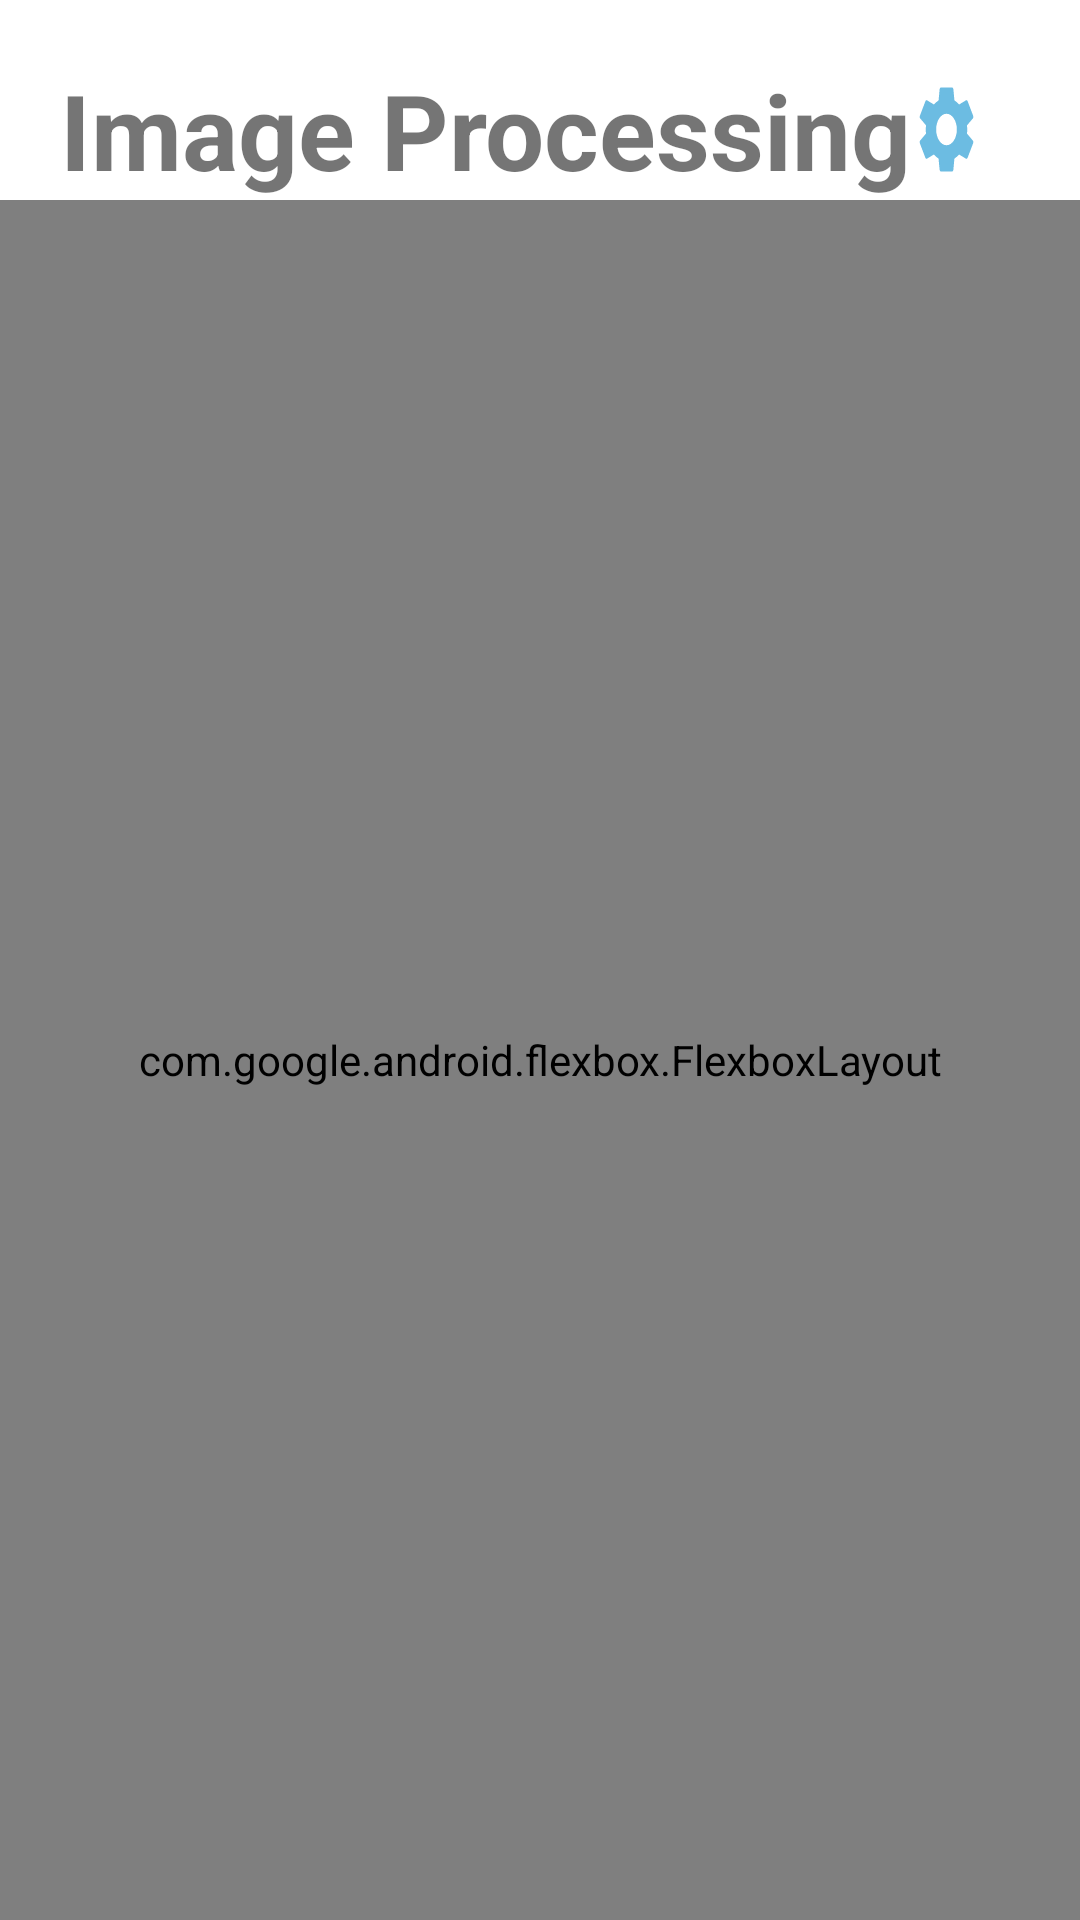

Locate icon controls on the screen. Image size 1080w x 1920h, boxes as (x1, y1, x2, y2).
settings: (919, 87, 974, 172)
